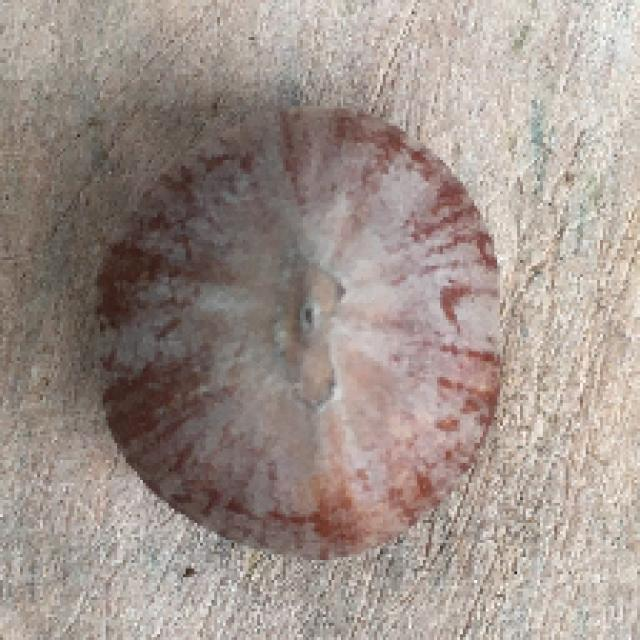QualityHazelnut: (91, 103, 514, 568)
